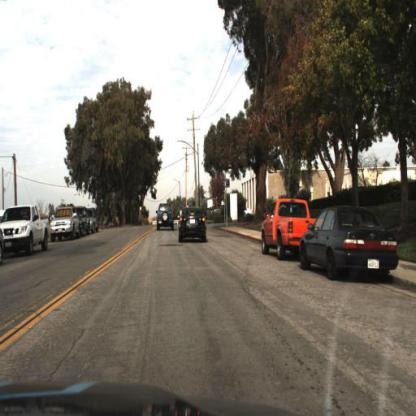car: (294, 189, 401, 301), (250, 186, 305, 268), (2, 200, 53, 264), (2, 204, 49, 261), (174, 202, 213, 248), (48, 205, 83, 246), (177, 204, 210, 245), (153, 199, 176, 237), (77, 199, 91, 239), (79, 205, 93, 242), (90, 204, 101, 239), (243, 202, 258, 223)
